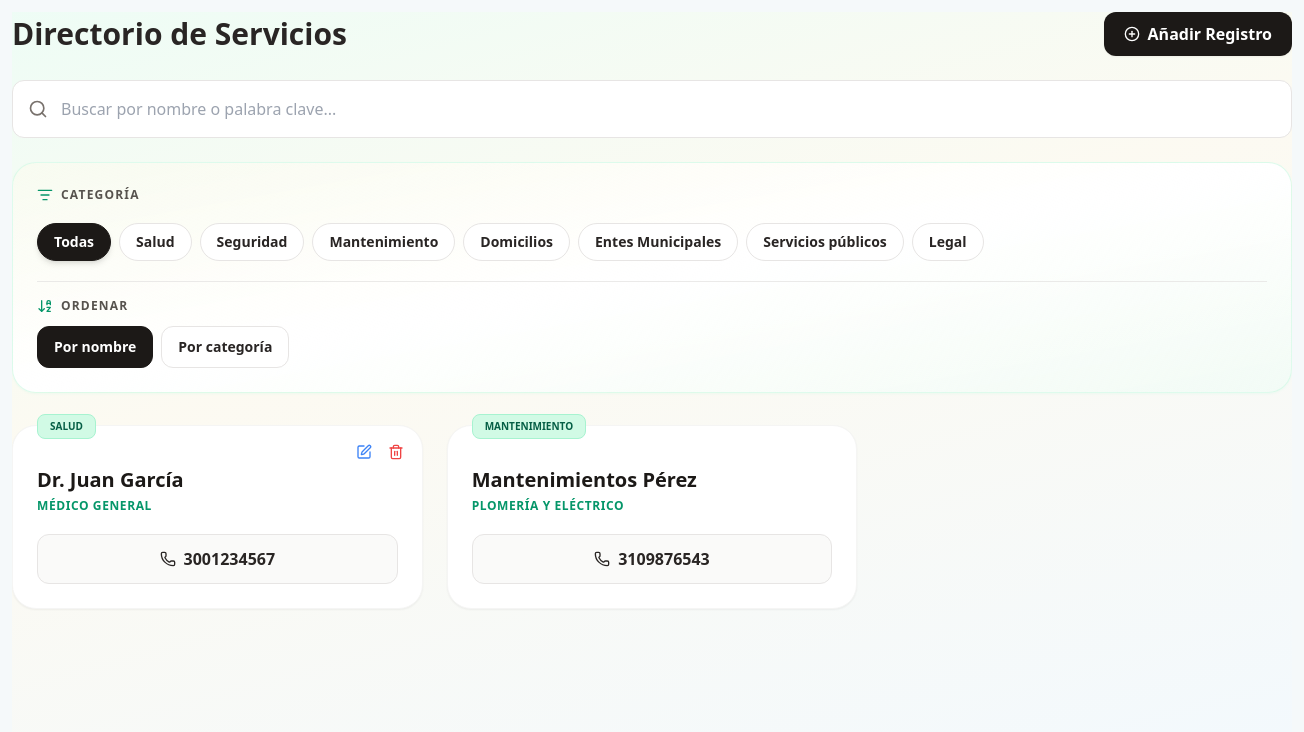
DirectoriesView — búsqueda › filtra resultados al escribir en el buscador
Type "garcía" into the field with placeholder "Buscar por nombre o palabra clave...". click: (652, 109)
box: [12,80,1292,138]
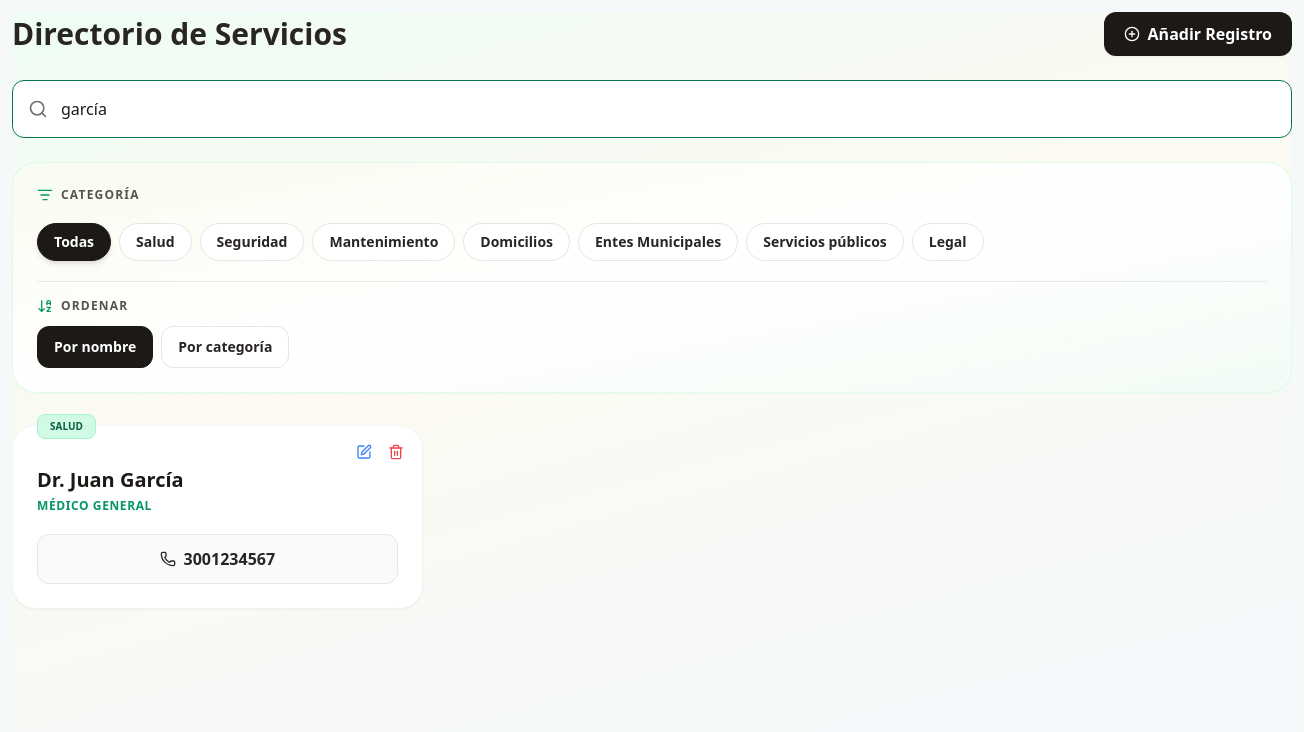
Expected: the heading "Dr. Juan García" is shown, [37,466,184,493]
Result: the heading "Mantenimientos Pérez" is gone
